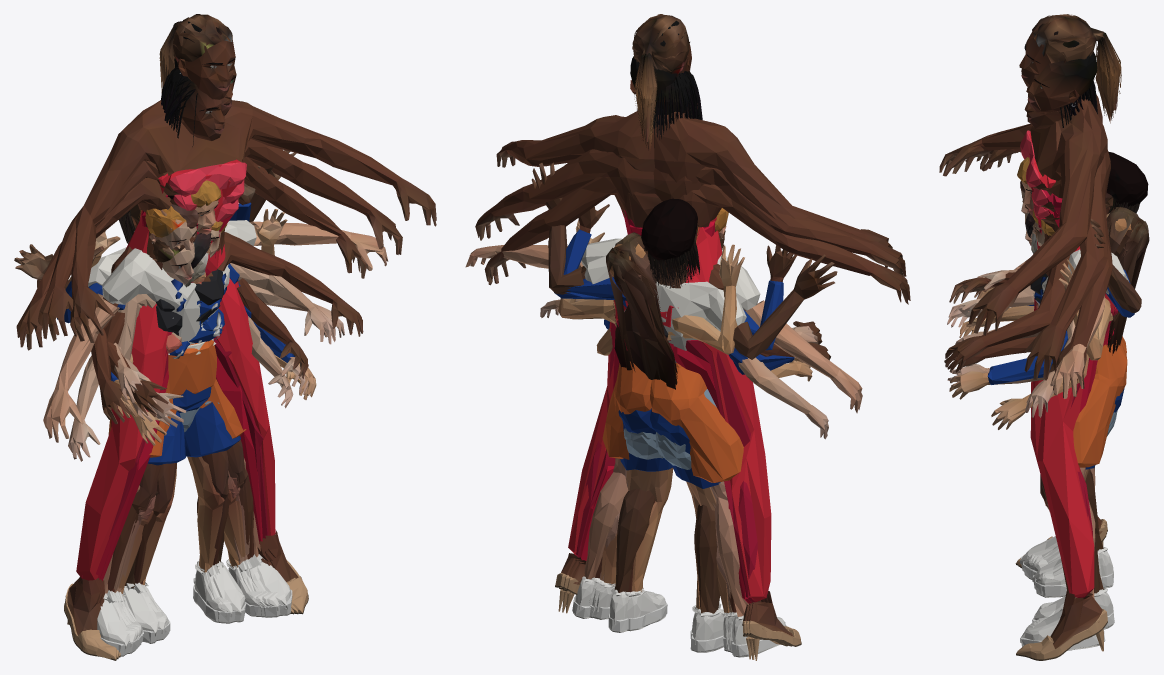
The model's file is vip-dance-floor.glb.
The picture shows the model from 3 angles, left to right: view 1: azimuth 30°, elevation 25°; view 2: azimuth 150°, elevation 25°; view 3: azimuth 270°, elevation 25°; orthographic projection.
Visible parts, largest first — view 1: Look floor-15, Look floor-12, Look floor-13, Look floor-14, Look floor-9, Look floor-10, Look floor-3, Look floor-6, Look floor-2, Look floor-4, Look floor-11, Look floor-1 (+3 smaller); view 2: Look floor-15, Look floor-10, Look floor-12, Look floor-14, Look floor-6, Look floor-13, Look floor-2, Look floor-1, Look floor-11, Look floor-5, Look floor-9, Look floor-8 (+1 smaller); view 3: Look floor-15, Look floor-14, Look floor-12, Look floor-10, Look floor-13, Look floor-6, Look floor-9, Look floor-1, Look floor-8, Look floor-4, Look floor-3, Look floor-11 (+3 smaller).
Part boxes in pixels (x1,y1,x2,y2): Look floor-15: [64, 14, 436, 660]; Look floor-12: [43, 180, 388, 656]; Look floor-13: [16, 67, 366, 657]; Look floor-14: [38, 58, 402, 659]; Look floor-9: [91, 195, 363, 653]; Look floor-10: [14, 149, 296, 643]; Look floor-3: [111, 206, 335, 647]; Look floor-6: [69, 209, 287, 632]; Look floor-2: [57, 166, 263, 640]; Look floor-4: [105, 204, 308, 617]; Look floor-11: [68, 239, 344, 628]; Look floor-1: [119, 253, 308, 642]; Look floor-15: [496, 14, 892, 660]; Look floor-10: [531, 162, 837, 652]; Look floor-12: [465, 238, 862, 657]; Look floor-14: [475, 56, 906, 659]; Look floor-6: [558, 219, 744, 641]; Look floor-13: [484, 71, 910, 659]; Look floor-2: [554, 204, 797, 630]; Look floor-1: [595, 328, 812, 651]; Look floor-11: [540, 230, 828, 652]; Look floor-5: [593, 321, 796, 649]; Look floor-9: [592, 263, 830, 615]; Look floor-8: [601, 319, 803, 616]; Look floor-15: [939, 14, 1121, 660]; Look floor-14: [965, 51, 1117, 649]; Look floor-12: [1014, 157, 1127, 650]; Look floor-10: [1032, 151, 1148, 629]; Look floor-13: [980, 80, 1114, 636]; Look floor-6: [1036, 207, 1149, 607]; Look floor-9: [945, 255, 1069, 633]; Look floor-1: [959, 232, 1116, 621]; Look floor-8: [949, 222, 1067, 622]; Look floor-4: [944, 181, 1058, 556]; Look floor-3: [947, 190, 1053, 625]; Look floor-11: [1025, 212, 1075, 561].
Size of the model in its own units: 1.55 by 2.18 by 0.6852.
